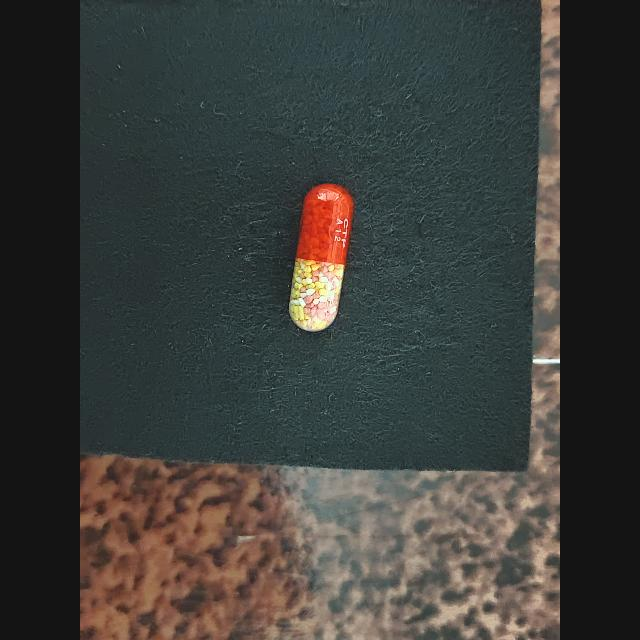Intact Capsule: (289, 184, 354, 332)
